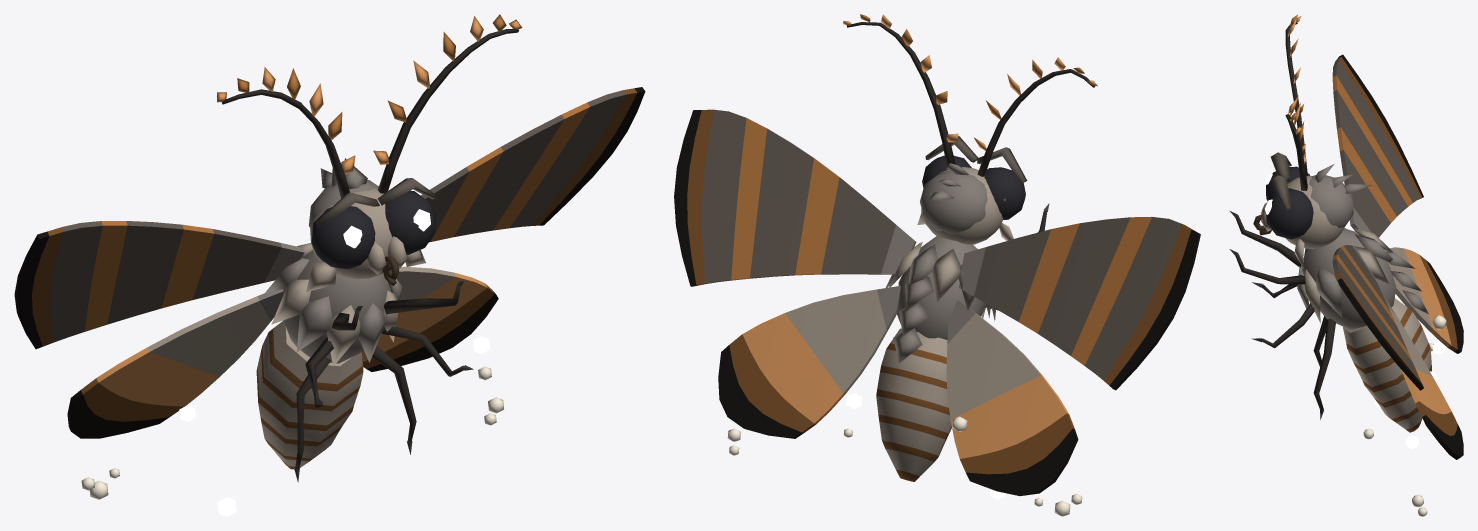
Rendered from moth-candle.glb.
3 renders of one model, left to right at view 1: azimuth 30°, elevation 25°; view 2: azimuth 150°, elevation 25°; view 3: azimuth 270°, elevation 25°, orthographic. The views are drawn at different scales.
Parts seen in each view (by area): view 1: beat_wing_1, beat_wing_0, body, pulse_abdomen, turn_head, sway_feeler_l, blink_eye_r, sway_feeler_r, blink_eye_l, bob_dust_r, bob_dust_l; view 2: beat_wing_0, beat_wing_1, pulse_abdomen, body, turn_head, sway_feeler_l, sway_feeler_r, blink_eye_r, bob_dust_r; view 3: beat_wing_1, body, beat_wing_0, pulse_abdomen, turn_head, blink_eye_l, sway_feeler_r, sway_feeler_l, bob_dust_l, blink_eye_r, bob_dust_r.
Part boxes in pixels (<box>): beat_wing_1: <box>14,221,304,438</box>; beat_wing_0: <box>362,87,645,371</box>; body: <box>265,243,473,482</box>; pulse_abdomen: <box>256,320,363,469</box>; turn_head: <box>306,158,437,292</box>; sway_feeler_l: <box>373,14,522,193</box>; blink_eye_r: <box>311,206,375,269</box>; sway_feeler_r: <box>217,67,355,198</box>; blink_eye_l: <box>385,190,435,254</box>; bob_dust_r: <box>81,405,236,516</box>; bob_dust_l: <box>473,336,503,425</box>; beat_wing_0: <box>674,109,916,438</box>; beat_wing_1: <box>946,216,1200,495</box>; pulse_abdomen: <box>876,328,951,481</box>; body: <box>885,203,1049,363</box>; turn_head: <box>917,136,1027,244</box>; sway_feeler_l: <box>843,14,958,167</box>; sway_feeler_r: <box>974,57,1097,176</box>; blink_eye_r: <box>984,167,1025,219</box>; bob_dust_r: <box>952,416,1082,516</box>; beat_wing_1: <box>1332,54,1463,353</box>; body: <box>1229,210,1429,419</box>; beat_wing_0: <box>1332,245,1463,459</box>; pulse_abdomen: <box>1343,298,1431,432</box>; turn_head: <box>1253,152,1372,266</box>; blink_eye_l: <box>1265,188,1313,239</box>; sway_feeler_r: <box>1285,14,1307,175</box>; sway_feeler_l: <box>1285,95,1307,190</box>; bob_dust_l: <box>1363,371,1437,516</box>; blink_eye_r: <box>1264,166,1310,201</box>; bob_dust_r: <box>1374,315,1446,408</box>.
Size of the model in its own units: 0.8322 by 0.6452 by 0.3587.
